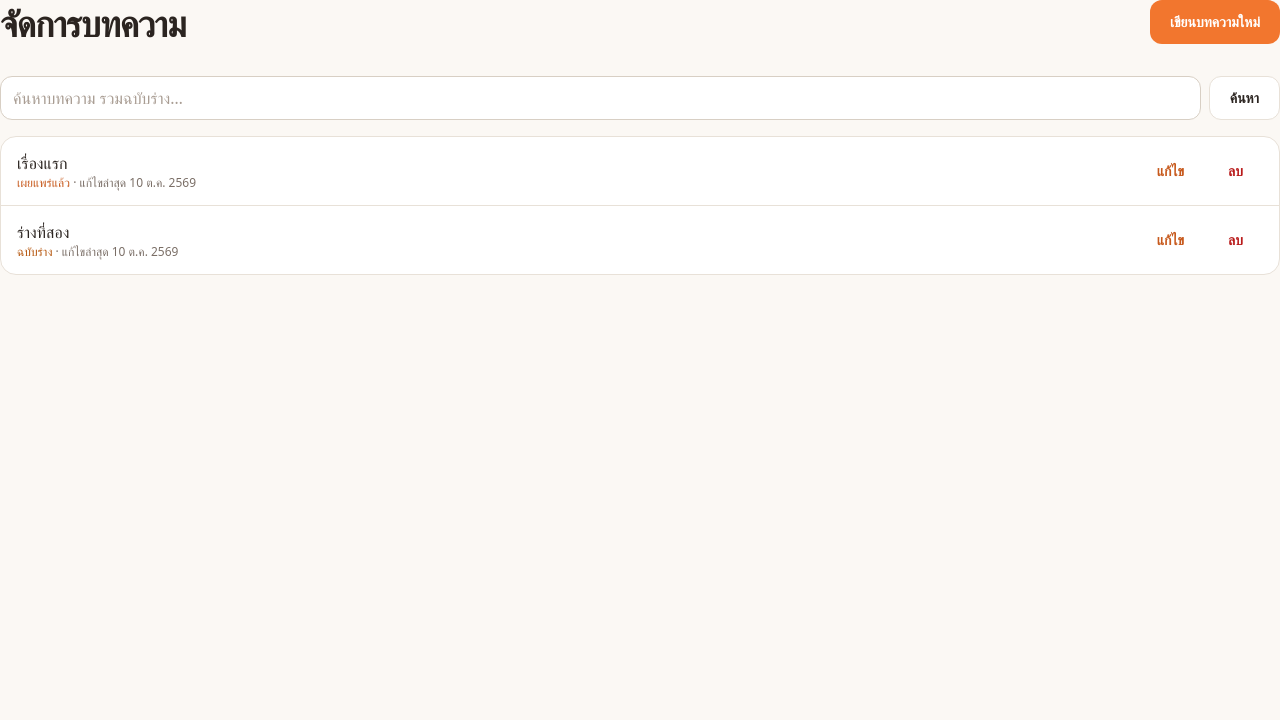
Test: กดลบ ต้องถามก่อน ยกเลิกแล้วไม่ลบ ยืนยันแล้วหายจากตารางพร้อมข้อความสำเร็จ
Click the button "ลบ" in the row of "ร่างที่สอง" at [1236, 240], box [1208,218,1263,262]
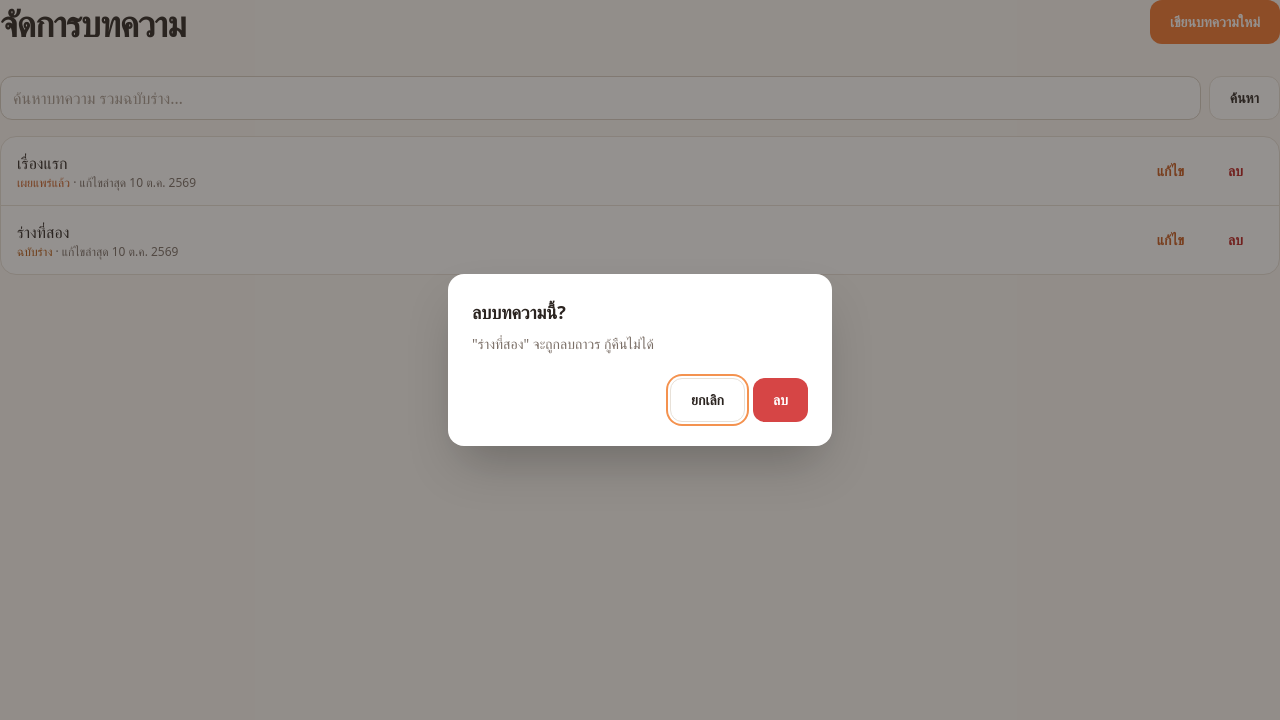
Result: the dialog "ลบบทความนี้?" shows "ร่างที่สอง" at [472,334,654,353]
Click the button "ยกเลิก" at [708, 400], box [670,378,745,422]
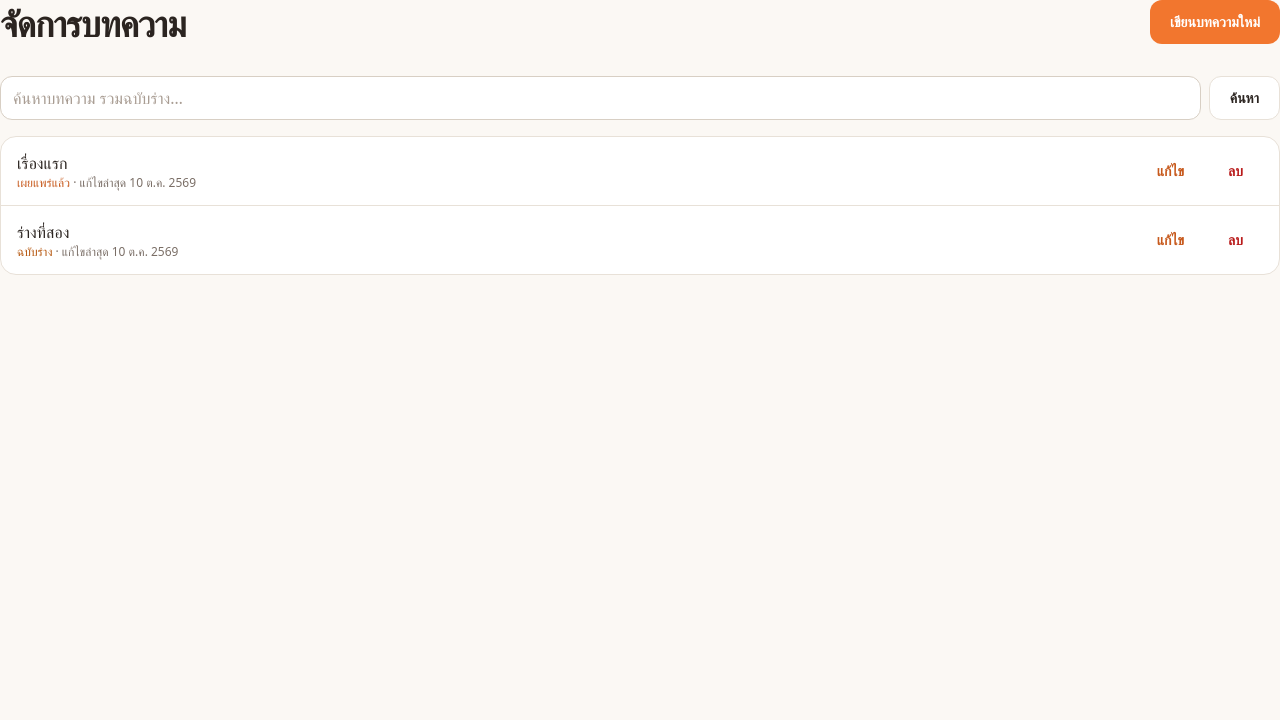
Result: the dialog is gone
Click the button "ลบ" in the row of "ร่างที่สอง" at [1236, 240], box [1208,218,1263,262]
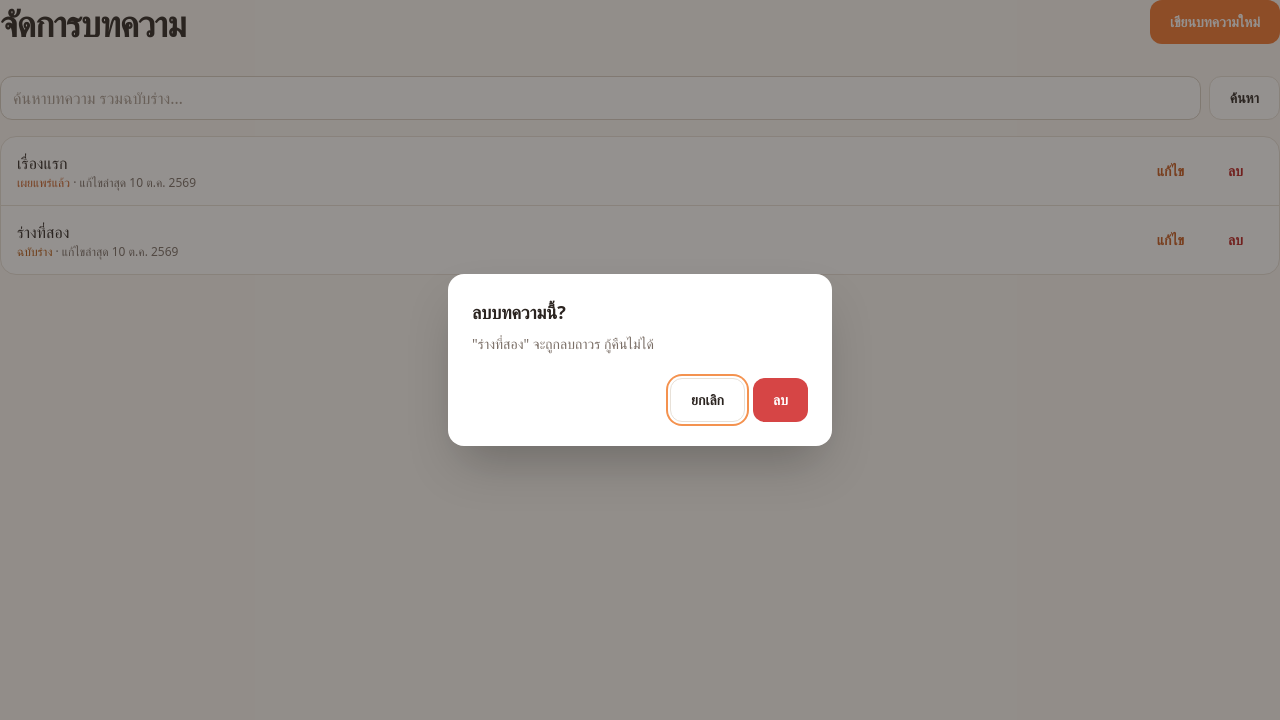
Click the button "ลบ" at [781, 400], box [753,378,808,422]
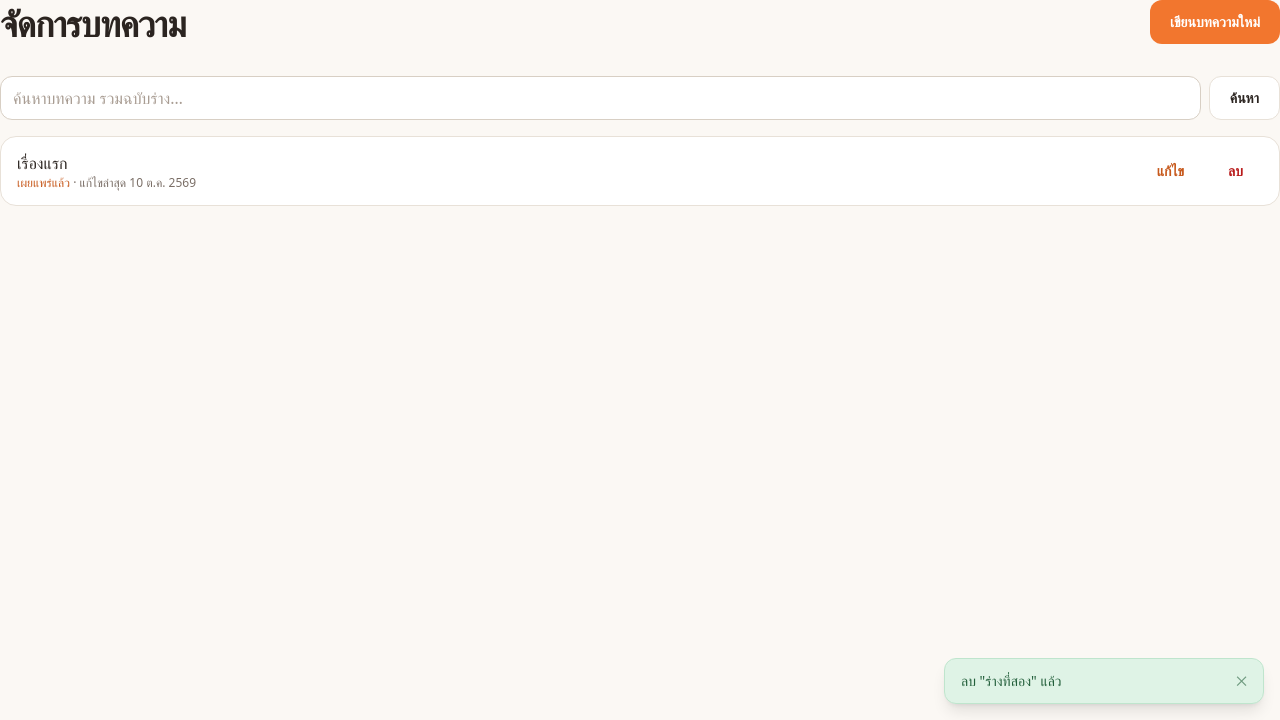
Result: the text "ลบ \"ร่างที่สอง\" แล้ว" is shown at [961,671,1062,690]
Result: the dialog is gone
